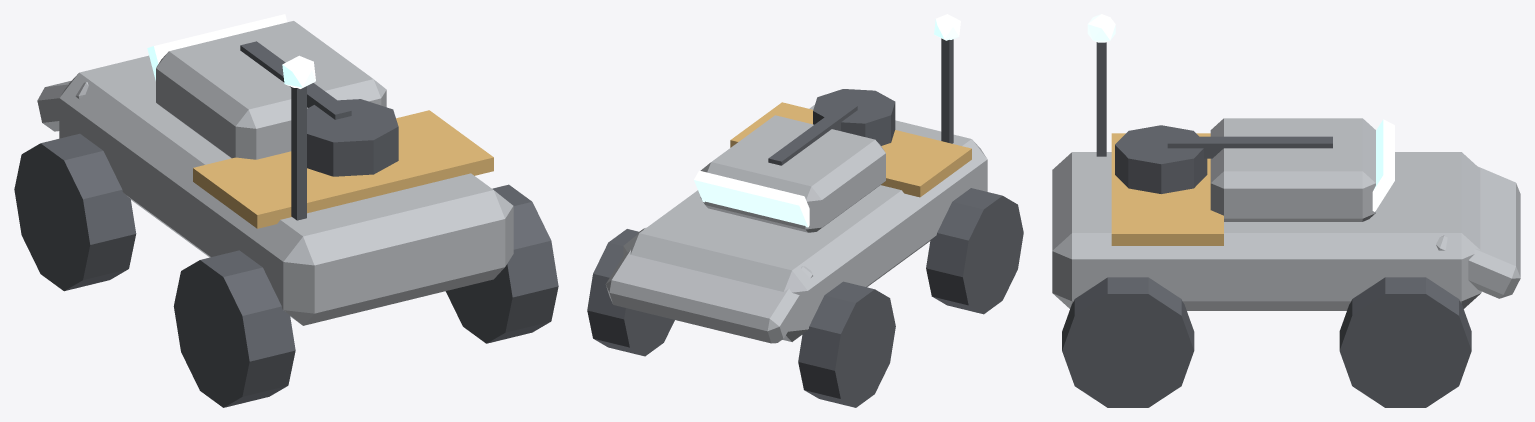
The model's file is scout_rover-DU3tdzmH.glb.
The picture shows the model from 3 angles, left to right: view 1: azimuth 30°, elevation 25°; view 2: azimuth 150°, elevation 25°; view 3: azimuth 270°, elevation 25°; orthographic projection. The views are drawn at different scales.
Parts seen in each view (by area): view 1: body; view 2: body; view 3: body.
Boxes of the visible parts, x1,y1,x2,y2 form: body: [14, 14, 558, 407]; body: [587, 14, 1023, 407]; body: [1052, 14, 1520, 407].
Size of the model in its own units: 0.5964 by 0.6219 by 0.9.
